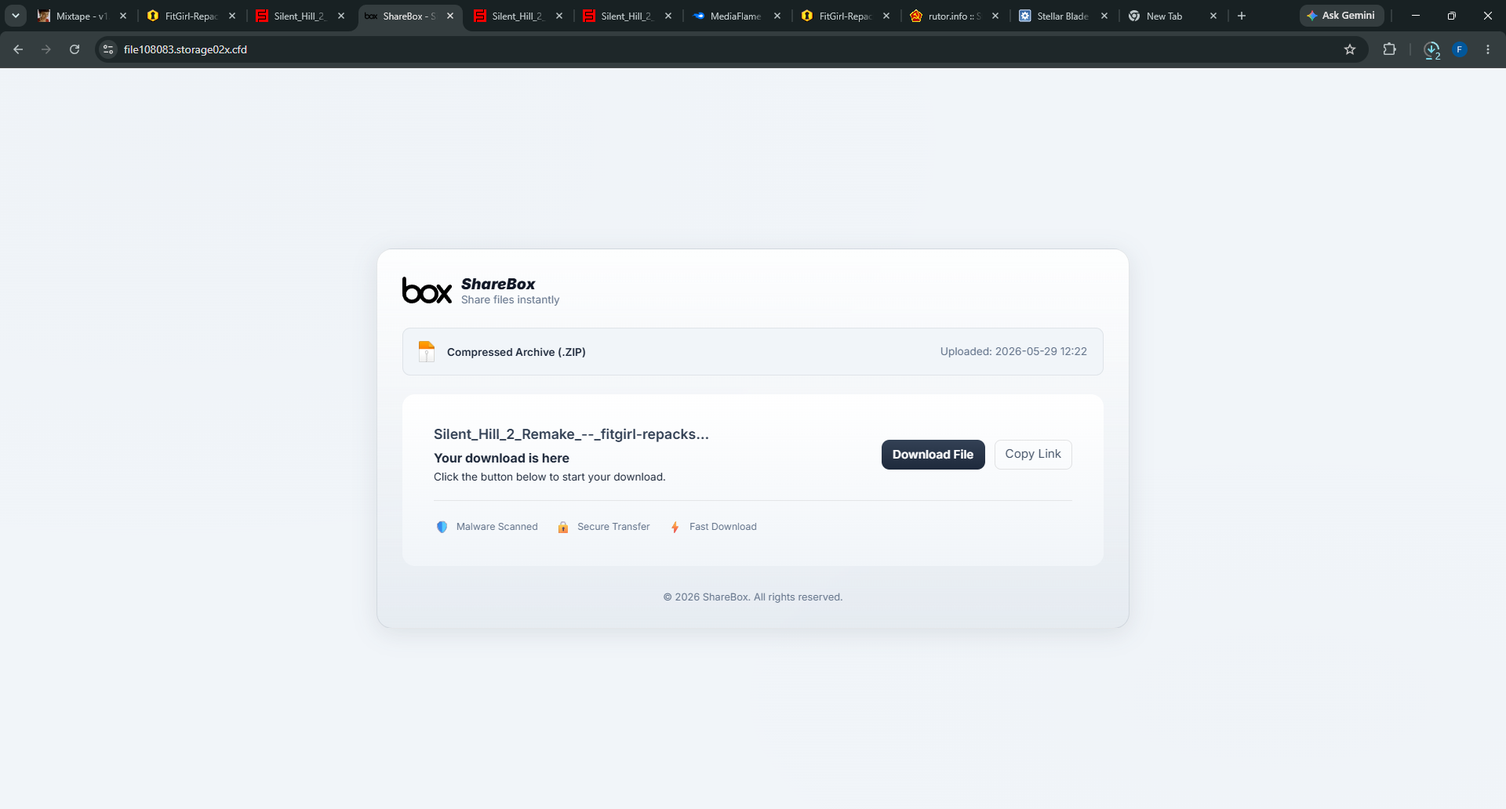fake_button: (853, 431, 998, 480)
